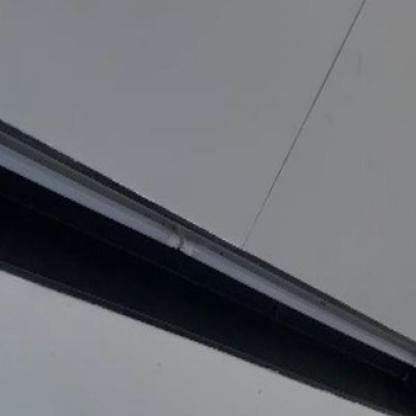light_off: (0, 64, 415, 402)
